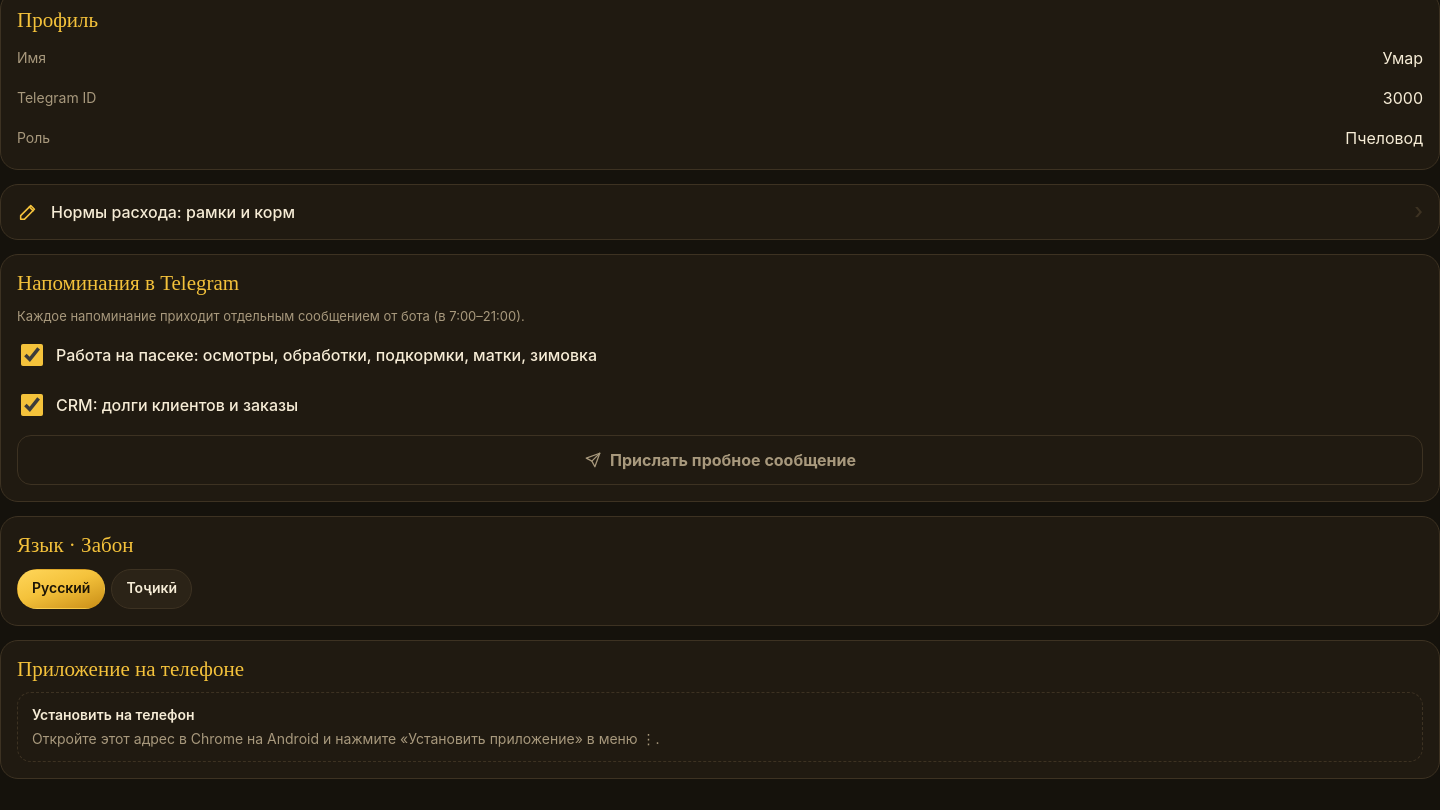
Reminders in «Ещё» › turns groups on and off and sends a test message
(page scrolled)
Check: the heading "Напоминания в Telegram" is shown, box [17, 271, 239, 295]
Check: the text "в 7:00–21:00" is shown, box [17, 308, 525, 324]
Click the checkbox labelled "CRM: долги клиентов и заказы" at (32, 405), box [21, 394, 43, 416]
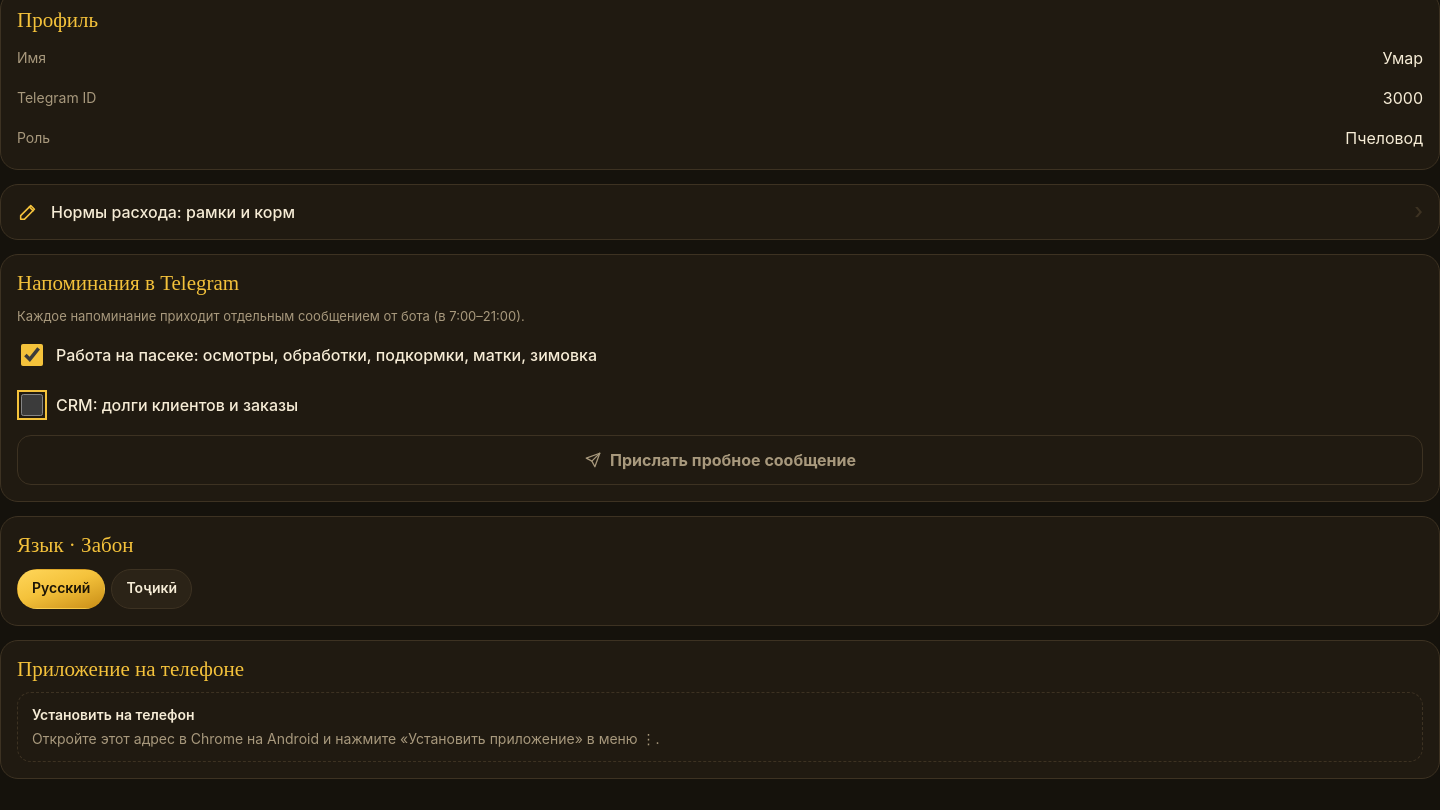
Check: the checkbox labelled "CRM: долги клиентов и заказы" is not checked, box [21, 394, 43, 416]
Click the button "Прислать пробное сообщение" at (720, 460), box [17, 435, 1423, 485]
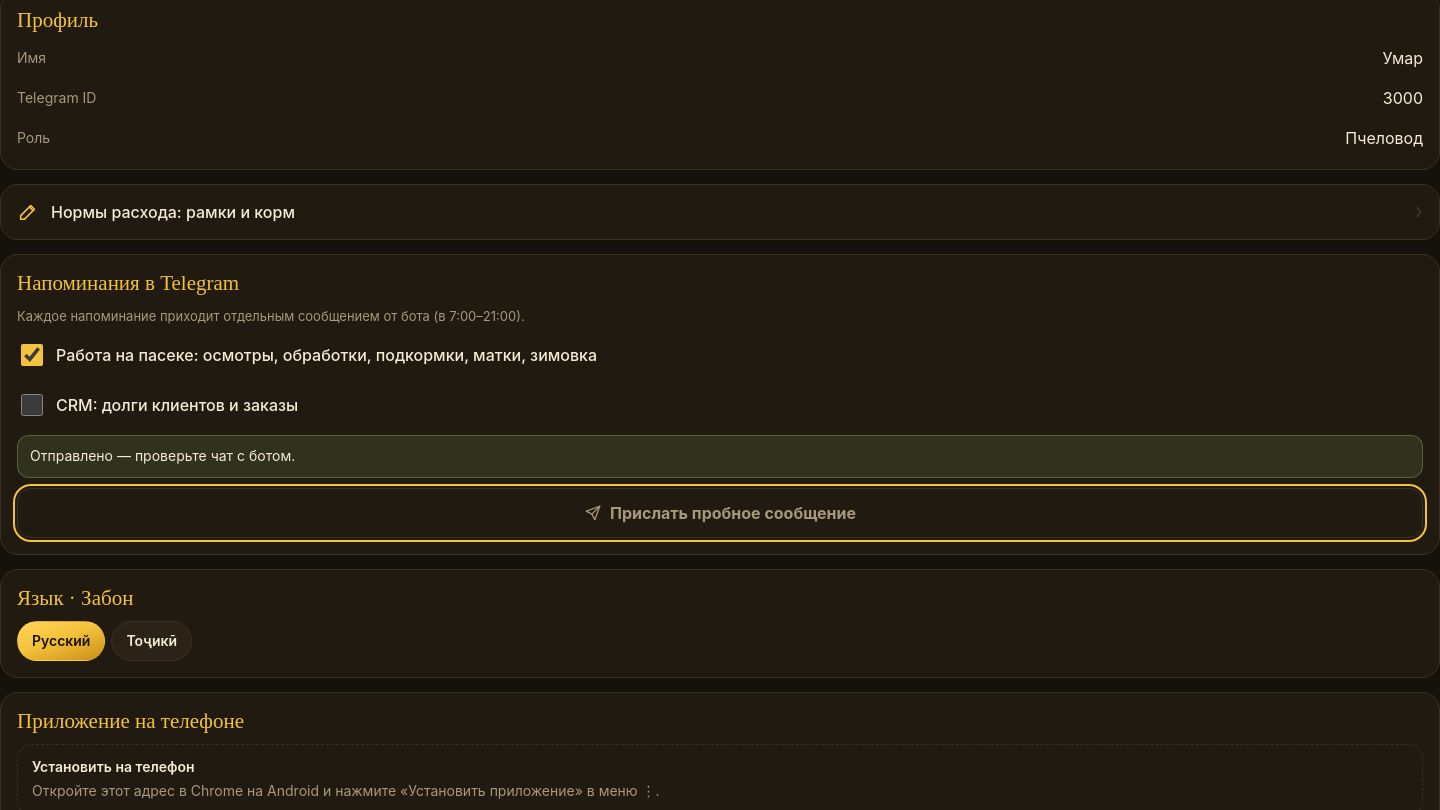
Check: the text "Отправлено — проверьте чат с ботом." is shown, box [17, 435, 1423, 478]
